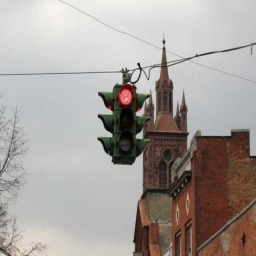traffic light: (98, 84, 152, 165)
